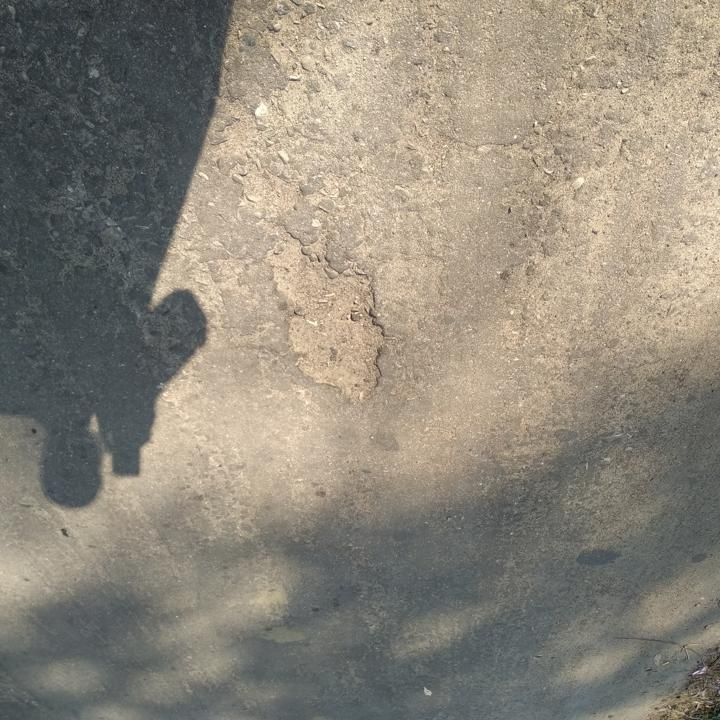pothole: (261, 233, 390, 406)
